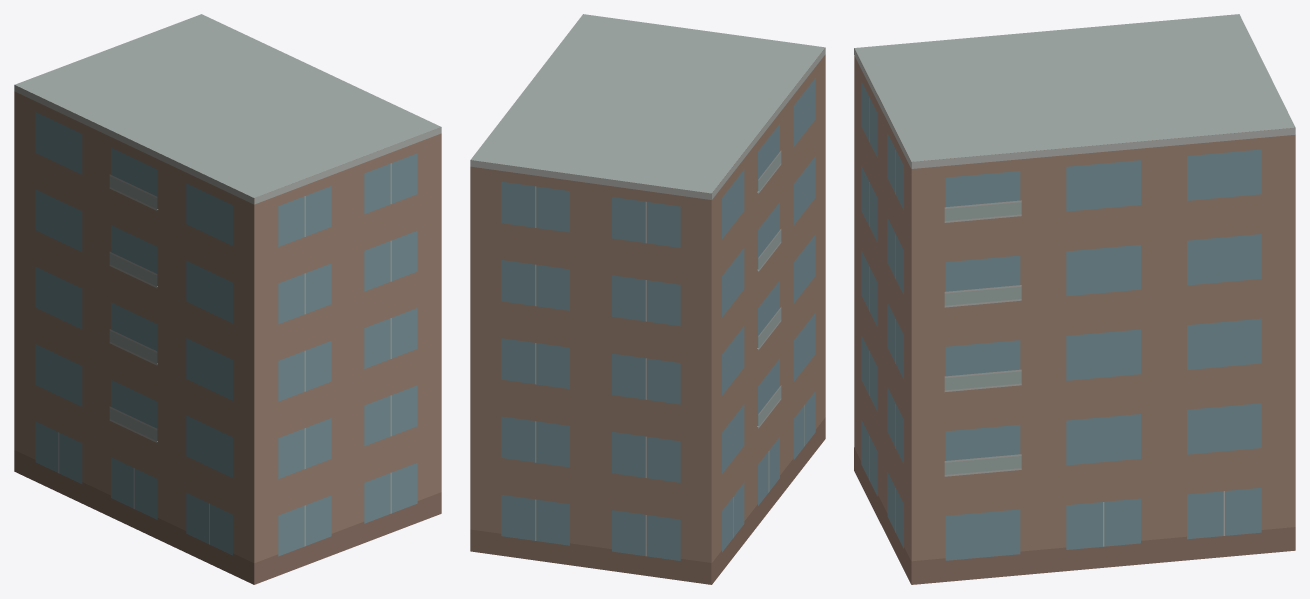
The model's file is survey-upis-32947234.glb.
3 views of the same model, side by side, from view 1: azimuth 30°, elevation 25°; view 2: azimuth 150°, elevation 25°; view 3: azimuth 270°, elevation 25° (orthographic). The views are drawn at different scales.
Visible parts, largest first — view 1: survey-upis-32947234.tmp; view 2: survey-upis-32947234.tmp; view 3: survey-upis-32947234.tmp.
Part boxes in pixels (x1,y1,x2,y2): survey-upis-32947234.tmp: (14, 14, 441, 584); survey-upis-32947234.tmp: (470, 14, 825, 584); survey-upis-32947234.tmp: (854, 14, 1295, 584).
Size of the model in its own units: 10.88 by 14.5 by 13.72.
